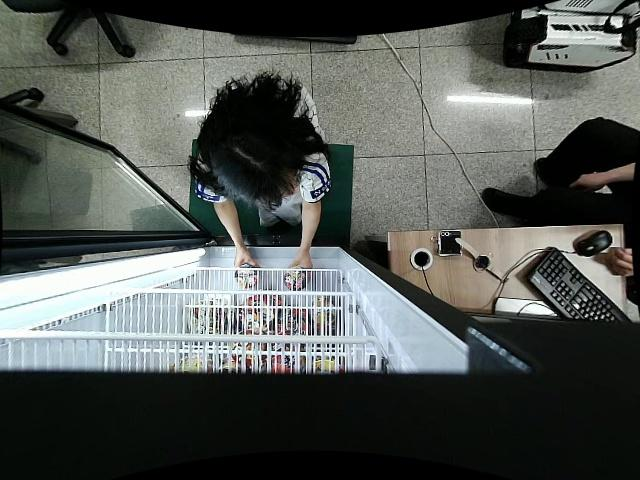00_hand: (287, 253, 314, 279), (235, 253, 260, 271)
08_buldak_S: (232, 262, 260, 289), (283, 267, 307, 291)
